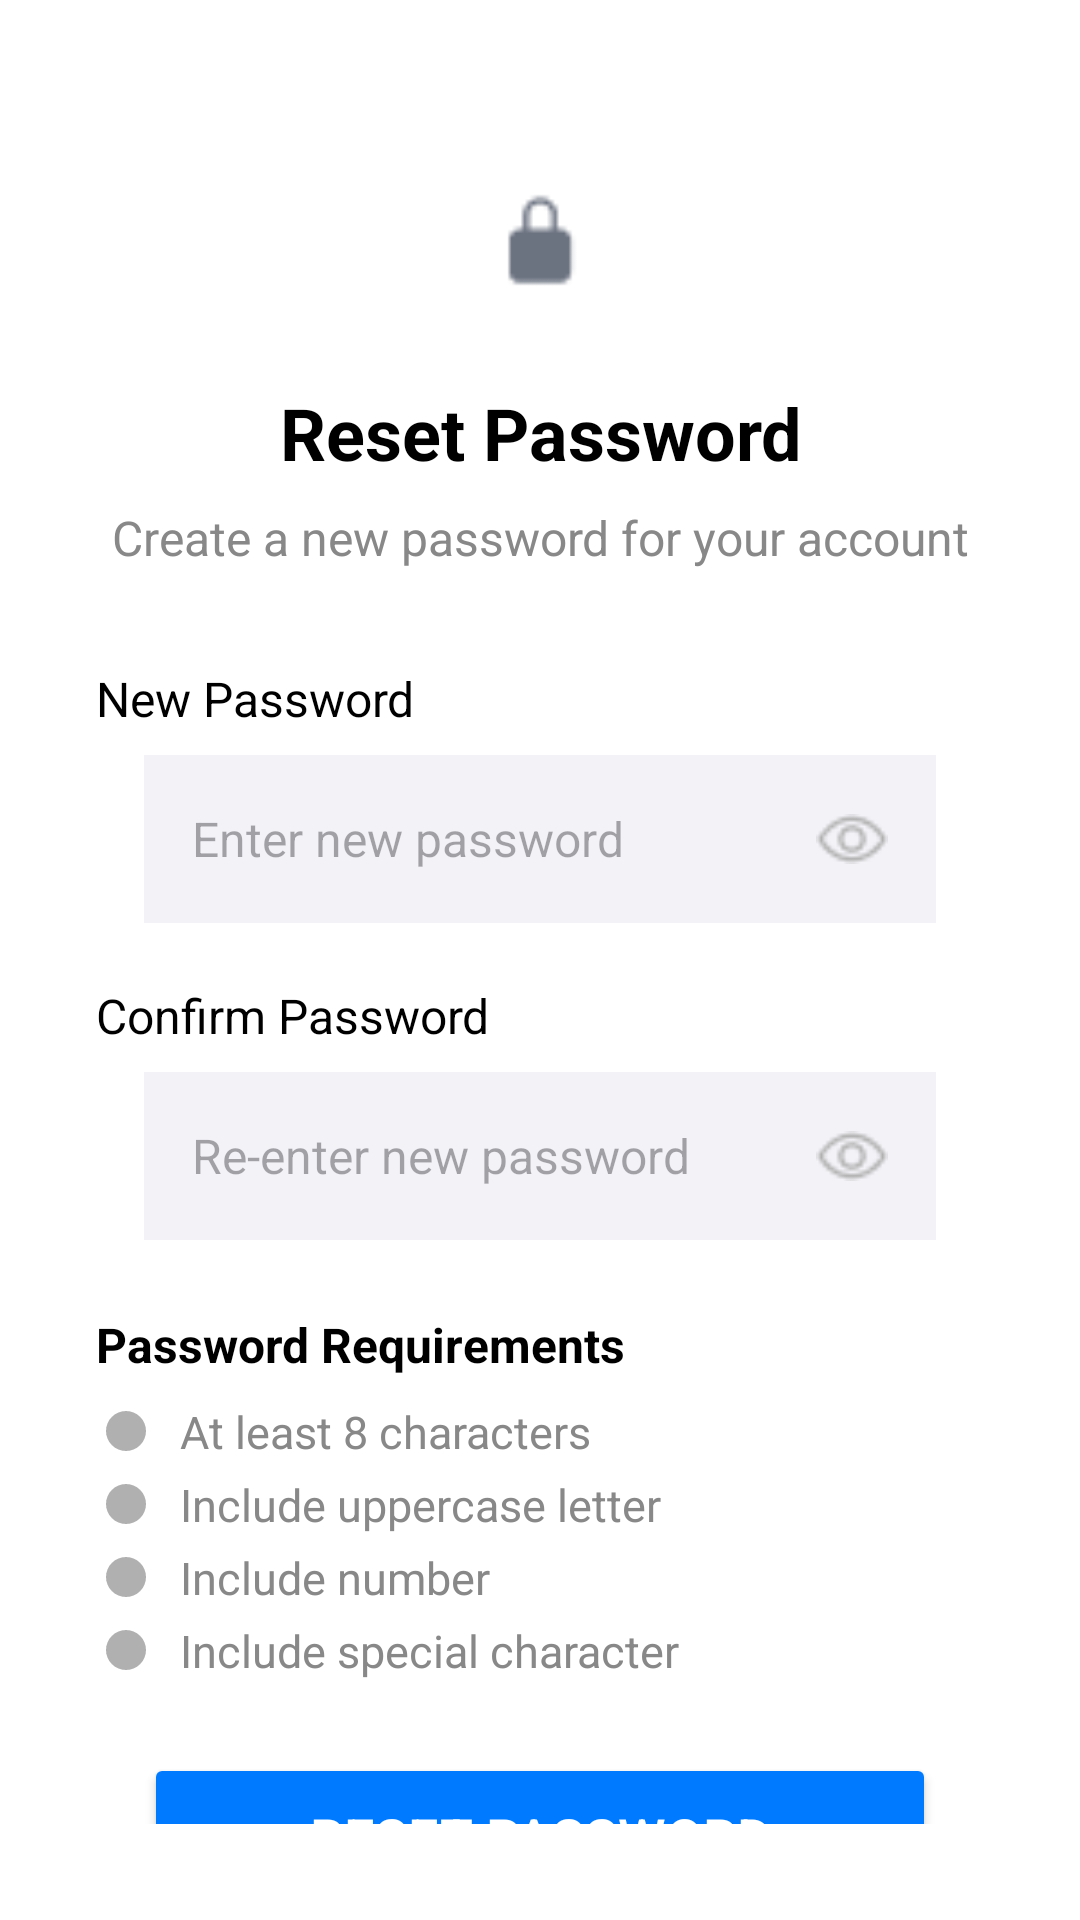

Icon bounding boxes for this 1080*1920 phone screenshot, format (x1, y1, x2, y2):
Lock Icon: (508, 195, 573, 285)
Show Password: (818, 816, 886, 862), (818, 1133, 886, 1179)
